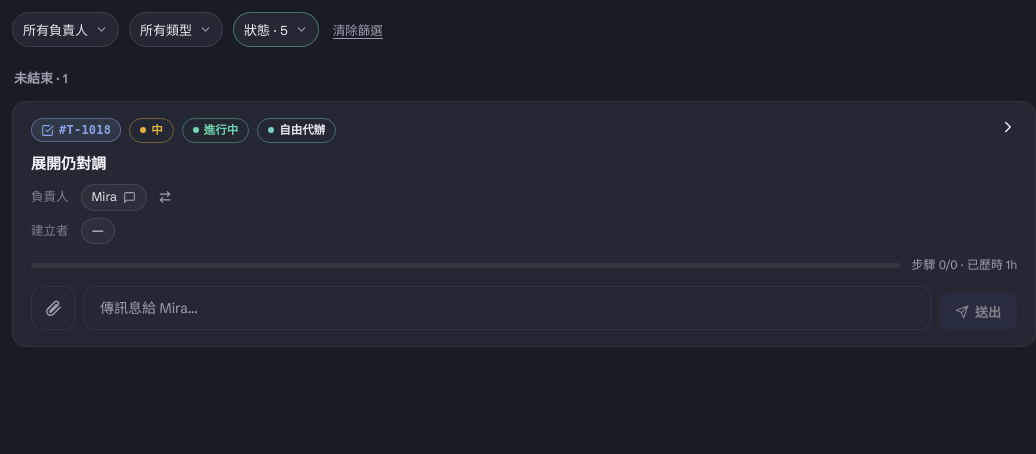
Test case: TaskCard 卡頭對齊 owner spec (T-705e) › spec ① 兩排對調: badge 列第一排、標題第二排 › holds the swapped order while expanded
This screenshot has width=1036, height=454.
Click the heading with class "task-card__title": (68, 163) 31,153 -> 106,174
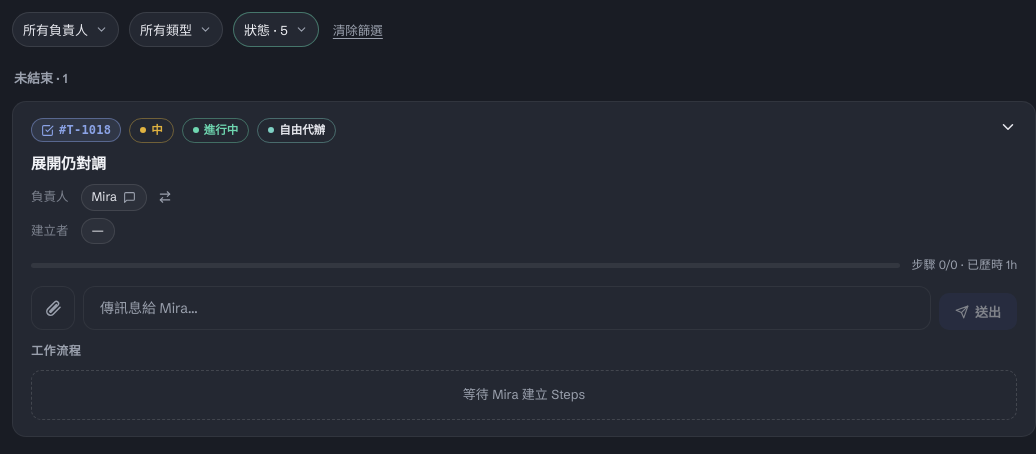
Expected: the header with class "task-card__head" is shown, 31,118 -> 1017,244
Expected: the button with test id "task-card" is expanded
